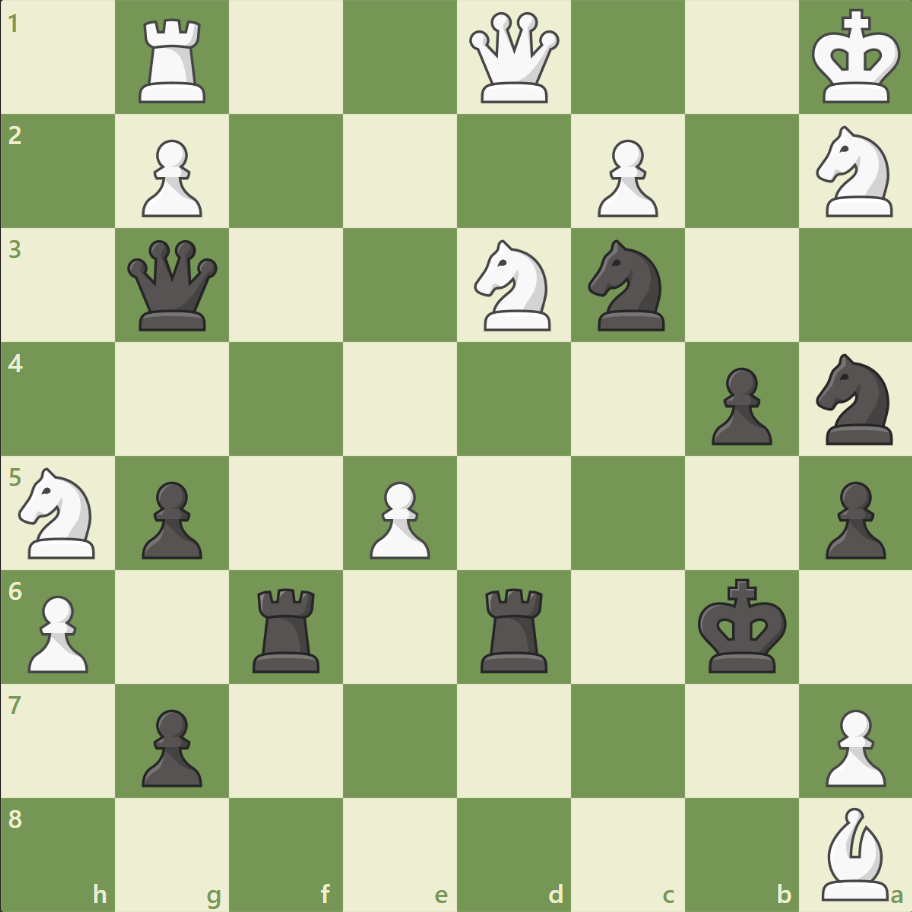B: (812, 801, 896, 904)
K: (806, 4, 906, 112)
N: (11, 461, 108, 564), (465, 234, 562, 337), (806, 121, 903, 223)
P: (20, 586, 95, 677), (133, 132, 208, 223), (815, 700, 889, 791), (361, 473, 435, 564), (588, 132, 662, 223)
Q: (464, 9, 563, 108)
R: (133, 12, 215, 109)
k: (692, 571, 792, 679)
n: (579, 234, 676, 337), (806, 348, 903, 450)
p: (133, 700, 208, 791), (133, 473, 208, 564), (701, 359, 776, 450), (815, 473, 889, 564)
q: (124, 236, 223, 335)
r: (473, 579, 556, 676), (246, 579, 329, 676)
